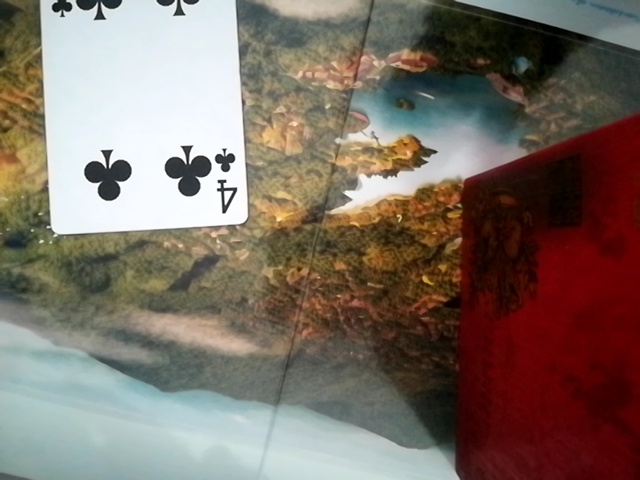mh 4: (36, 0, 247, 236)
